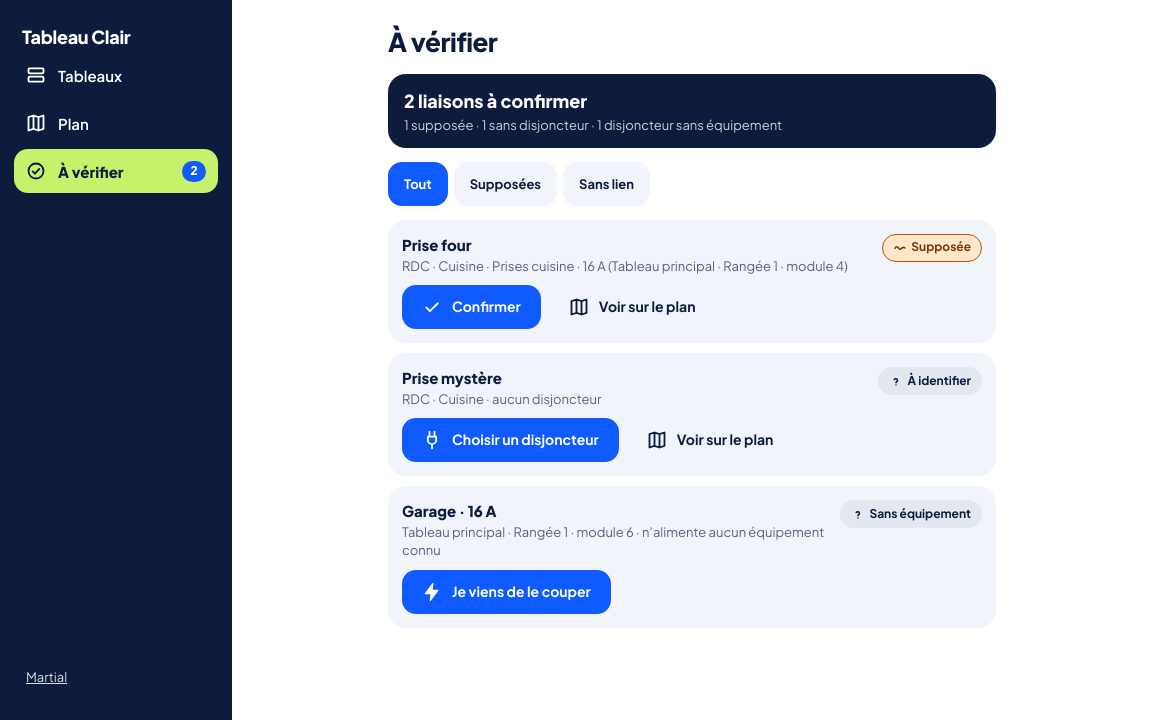
Scenario: écran À vérifier › mène au plan sur l’équipement concerné
This screenshot has width=1152, height=720.
Click the button "Voir sur le plan" below "Prise four". click: [632, 307]
box: [549,285,715,329]
(page scrolled)
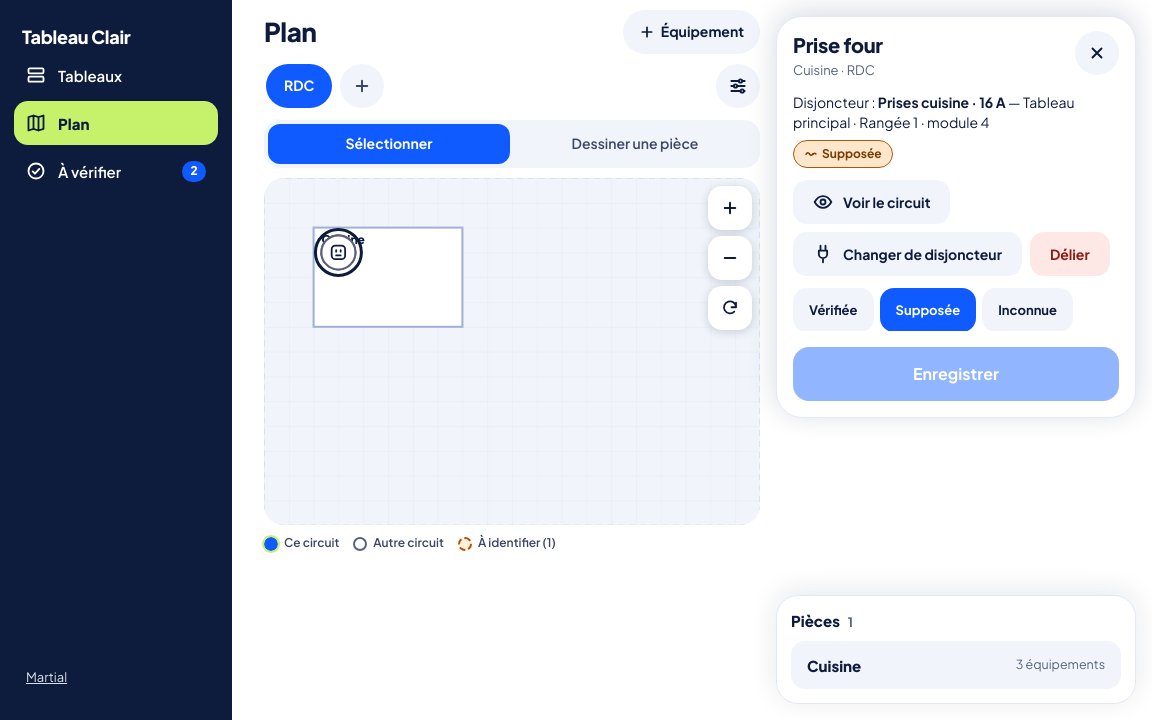
Expected: the element "Prise four" is shown, [776,16,1136,418]
